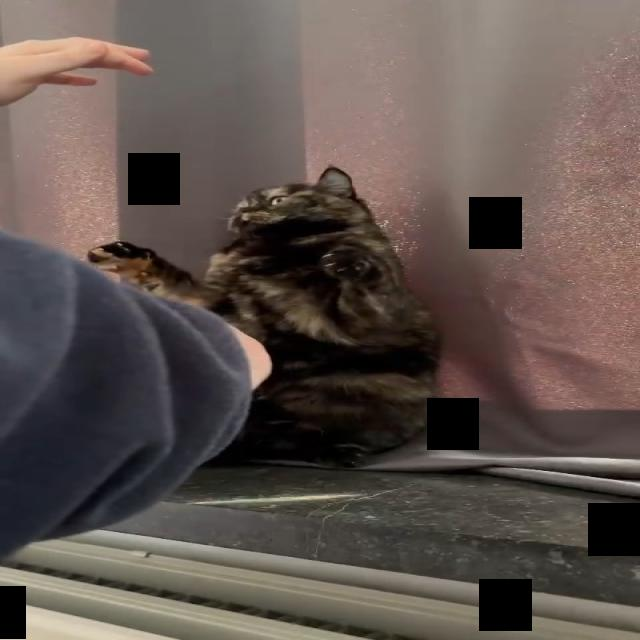authorized: (85, 164, 443, 468)
